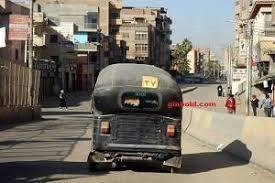keke: (82, 61, 190, 174)
